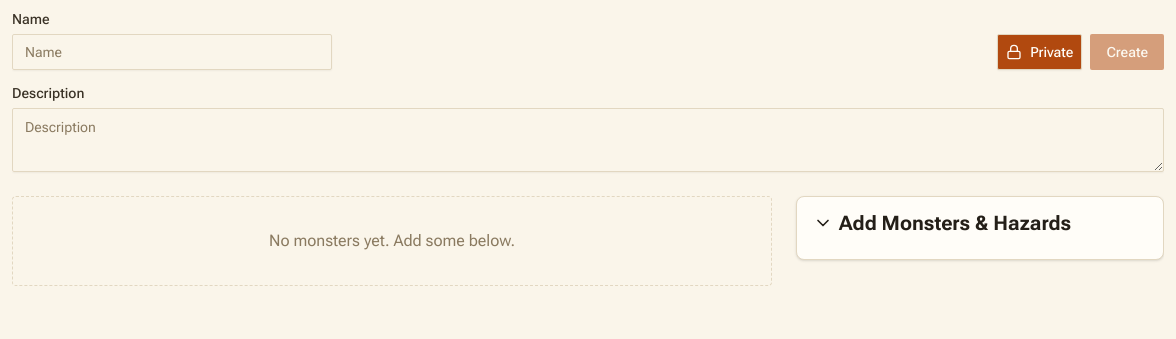
encounter editor mutation › shows a save failure without clearing the draft
In the field labelled "Name": (172, 52) [12,34,332,70], type "Unsaved Encounter"
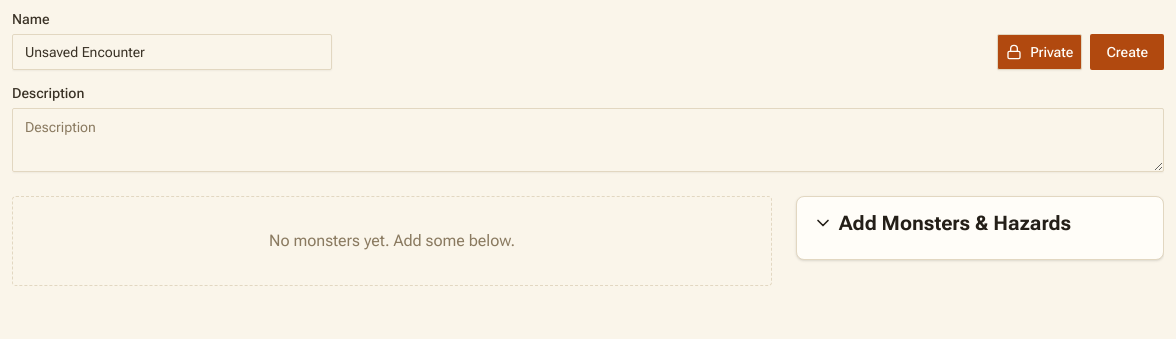
Click the button "Create": (1127, 52) [1090,34,1164,70]
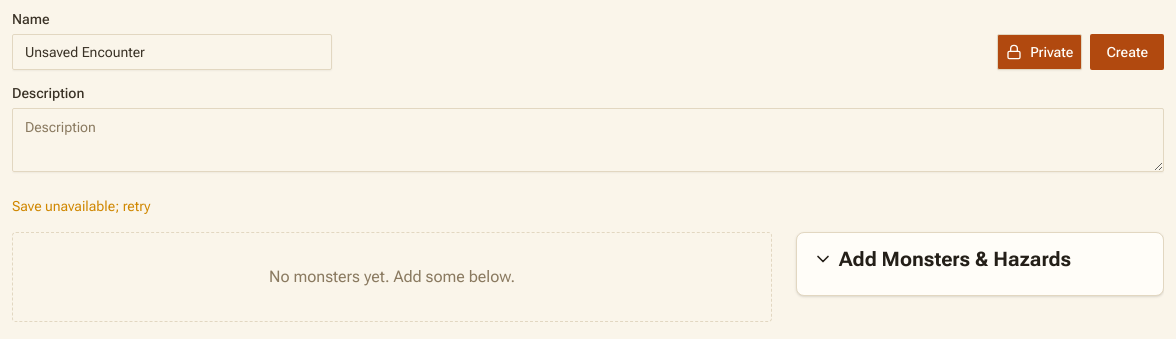
Result: the text "Save unavailable; retry" is shown at [12,198,150,214]
